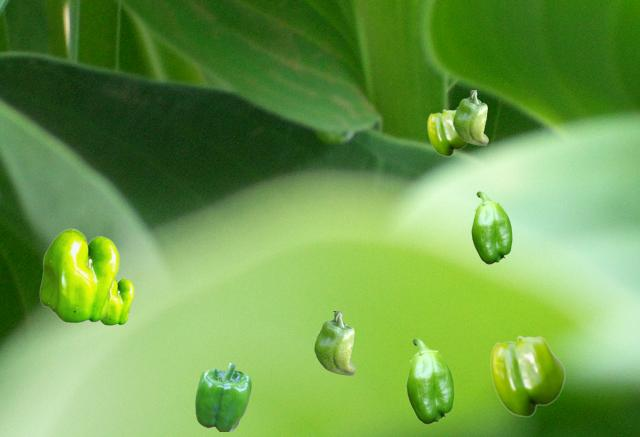bell_pepper: (39, 228, 118, 322), (490, 335, 564, 416), (406, 338, 453, 423), (195, 363, 250, 430), (471, 191, 511, 263), (314, 311, 354, 374), (427, 109, 467, 155), (453, 90, 487, 144), (100, 277, 133, 324)
